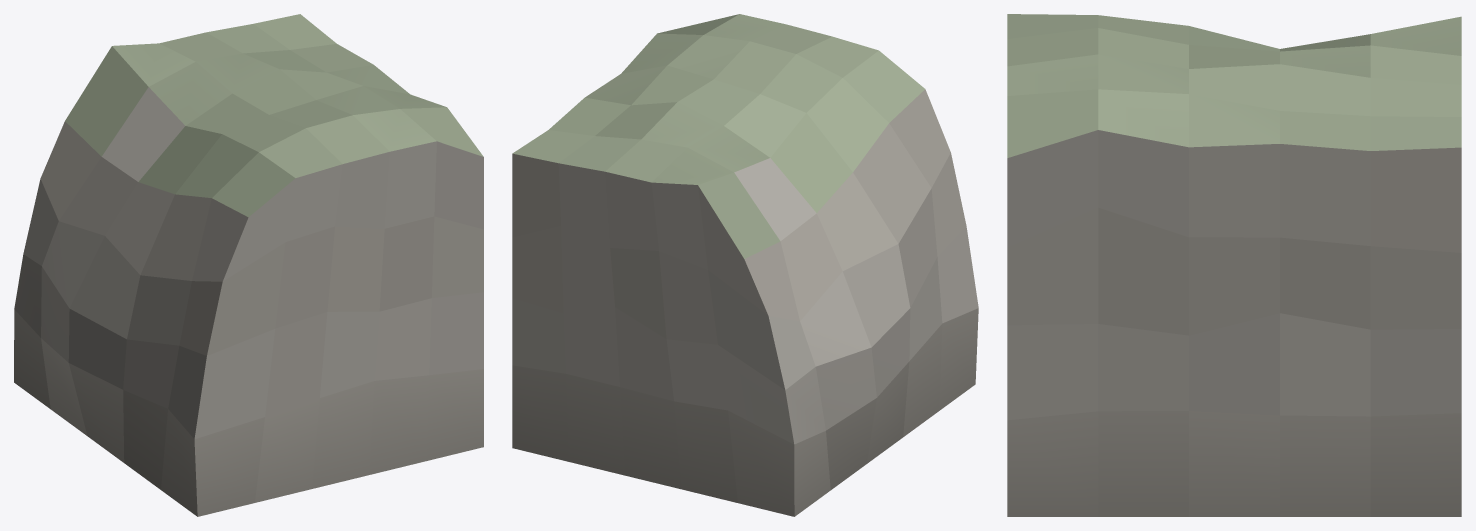
Rendered from roca_te_3.glb.
3 views of the same model, side by side, from view 1: azimuth 30°, elevation 25°; view 2: azimuth 150°, elevation 25°; view 3: azimuth 270°, elevation 25° (orthographic). The views are drawn at different scales.
Visible parts, largest first — view 1: propforge-cuartos-roca_te; view 2: propforge-cuartos-roca_te; view 3: propforge-cuartos-roca_te.
Boxes of the visible parts, box(x1,y1,x2,y2) form: propforge-cuartos-roca_te: box(14, 14, 483, 516); propforge-cuartos-roca_te: box(512, 14, 978, 516); propforge-cuartos-roca_te: box(1007, 14, 1461, 516).
Size of the model in its own units: 0.9452 by 0.9855 by 1.
